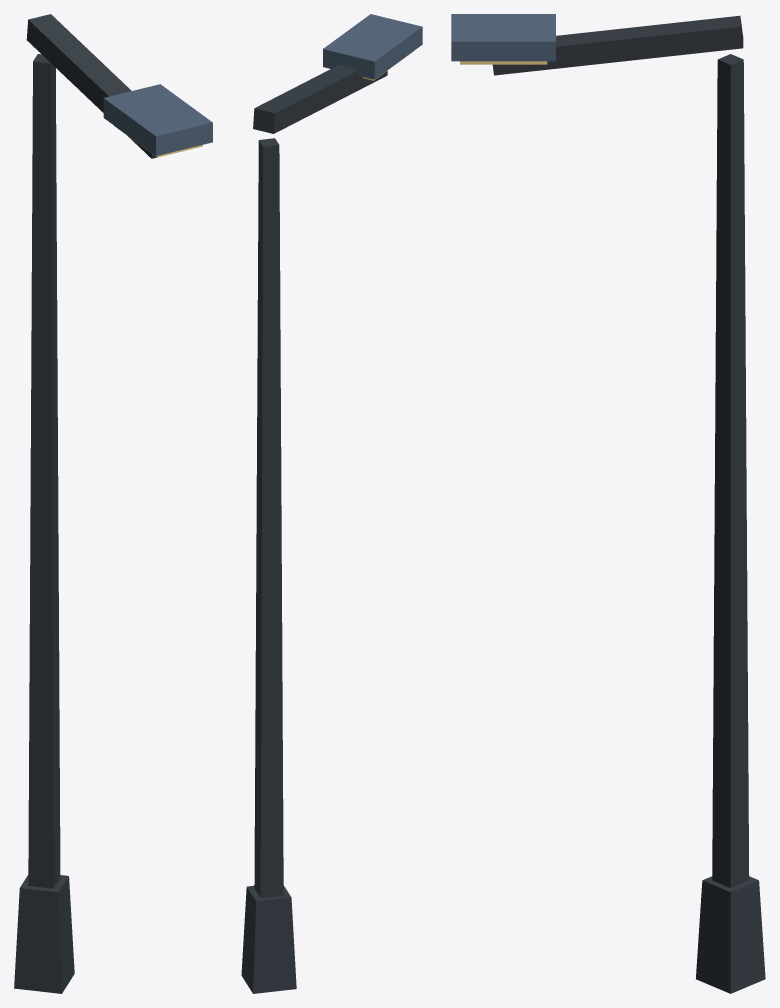
The model's file is street-lamp-modern-lod1.glb.
3 views of the same model, side by side, from view 1: azimuth 30°, elevation 25°; view 2: azimuth 150°, elevation 25°; view 3: azimuth 270°, elevation 25° (orthographic). The views are drawn at different scales.
Visible parts, largest first — view 1: street-lamp-modern-lod1; view 2: street-lamp-modern-lod1; view 3: street-lamp-modern-lod1.
Boxes of the visible parts, x1,y1,x2,y2 form: street-lamp-modern-lod1: (14, 14, 212, 993); street-lamp-modern-lod1: (241, 14, 422, 993); street-lamp-modern-lod1: (451, 14, 765, 993).
Bounding box in the file's own units: 0.32 × 4.84 × 1.44.
Materials: 1 (1 with a texture image).
